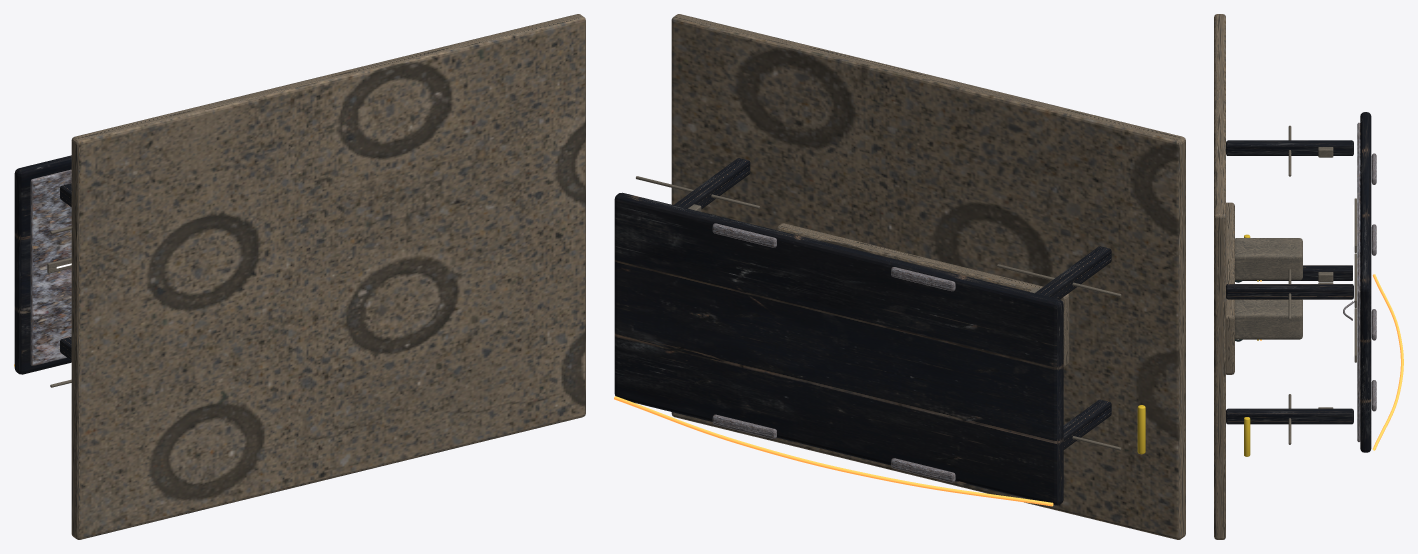
Rendered from station.glb.
3 views of the same model, side by side, from view 1: azimuth 30°, elevation 25°; view 2: azimuth 150°, elevation 25°; view 3: azimuth 270°, elevation 25° (orthographic). The views are drawn at different scales.
Visible parts, largest first — view 1: CONCRETE_BASE, CANOPY_FROSTED_UNDERSIDE, CANOPY_MAIN_BEVELED; view 2: CONCRETE_BASE, CANOPY_MAIN_BEVELED, PUMP_ISLAND, CANOPY_ORANGE_EDGE, PILLAR.001, PILLAR.003, PILLAR, SNOW_CAP, SNOW_CAP.003, SNOW_CAP.001, SNOW_CAP.002; view 3: CONCRETE_BASE, CANOPY_MAIN_BEVELED, FUEL_PUMP_BODY, FUEL_PUMP_BODY.001, PILLAR.002, PILLAR.003, PILLAR.001, PUMP_ISLAND, CANOPY_FROSTED_UNDERSIDE, PILLAR, CANOPY_ORANGE_EDGE, YELLOW_BOLLARD.001.
Part boxes in pixels (x1,y1,x2,y2): CONCRETE_BASE: [71, 14, 585, 539]; CANOPY_FROSTED_UNDERSIDE: [30, 169, 71, 365]; CANOPY_MAIN_BEVELED: [14, 155, 71, 374]; CONCRETE_BASE: [671, 14, 1185, 539]; CANOPY_MAIN_BEVELED: [614, 192, 1063, 505]; PUMP_ISLAND: [776, 223, 1069, 367]; CANOPY_ORANGE_EDGE: [614, 396, 1053, 506]; PILLAR.001: [1035, 246, 1111, 299]; PILLAR.003: [674, 158, 750, 209]; PILLAR: [1063, 399, 1111, 449]; SNOW_CAP: [891, 458, 955, 482]; SNOW_CAP.003: [712, 223, 776, 247]; SNOW_CAP.001: [891, 267, 955, 291]; SNOW_CAP.002: [712, 414, 776, 438]; CONCRETE_BASE: [1214, 14, 1225, 539]; CANOPY_MAIN_BEVELED: [1360, 112, 1371, 452]; FUEL_PUMP_BODY: [1235, 238, 1302, 280]; FUEL_PUMP_BODY.001: [1235, 299, 1302, 339]; PILLAR.002: [1226, 408, 1353, 424]; PILLAR.003: [1226, 284, 1353, 299]; PILLAR.001: [1226, 140, 1353, 155]; PUMP_ISLAND: [1226, 202, 1234, 374]; CANOPY_FROSTED_UNDERSIDE: [1357, 122, 1360, 441]; PILLAR: [1236, 265, 1352, 280]; CANOPY_ORANGE_EDGE: [1372, 274, 1403, 450]; YELLOW_BOLLARD.001: [1244, 417, 1250, 456].
Size of the model in its own units: 24 by 18 by 9.51.
Materials: 8 (4 with a texture image).
